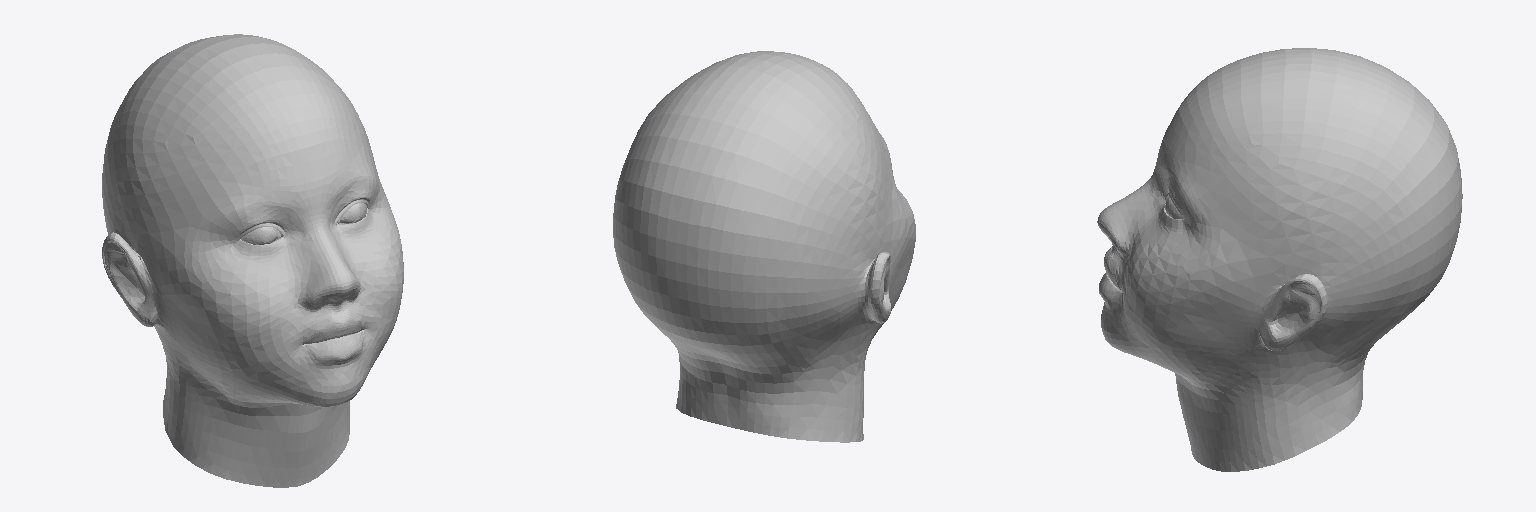
Rendered from ÁõÒà·Æ.obj.
The picture shows the model from 3 angles: view 1: azimuth 30°, elevation 25°; view 2: azimuth 150°, elevation 25°; view 3: azimuth 270°, elevation 25°; orthographic projection.
Parts seen in each view (by area): view 1: FaceGen; view 2: FaceGen; view 3: FaceGen.
Boxes of the visible parts, x1=… form: FaceGen: x1=102, y1=34, x2=403, y2=487; FaceGen: x1=613, y1=51, x2=915, y2=442; FaceGen: x1=1097, y1=48, x2=1462, y2=471.
Bounding box in the file's own units: 201 × 286 × 239.